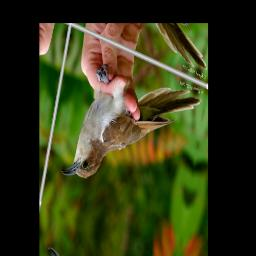Cuckoo: (61, 43, 203, 229)
